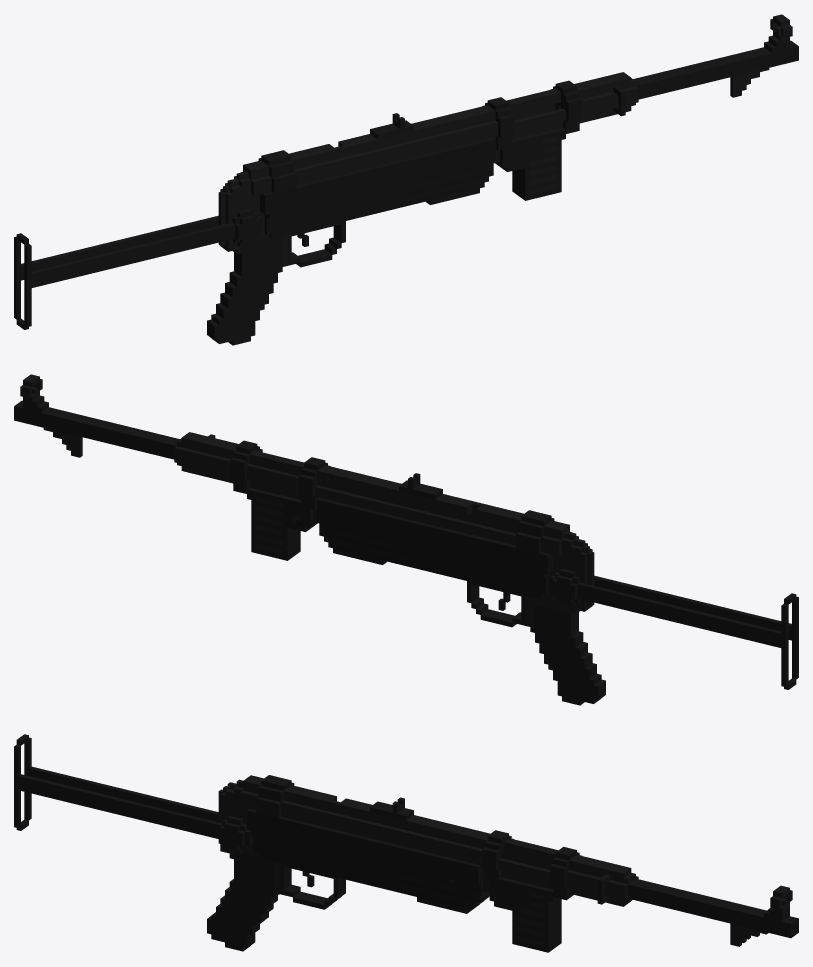
The model's file is Mp40_body.obj.
3 renders of one model, top to bottom at view 1: azimuth 30°, elevation 25°; view 2: azimuth 150°, elevation 25°; view 3: azimuth 330°, elevation 25°, orthographic.
Size of the model in its own units: 17.1 by 4 by 0.8.
Materials: 1 (1 with a texture image).
